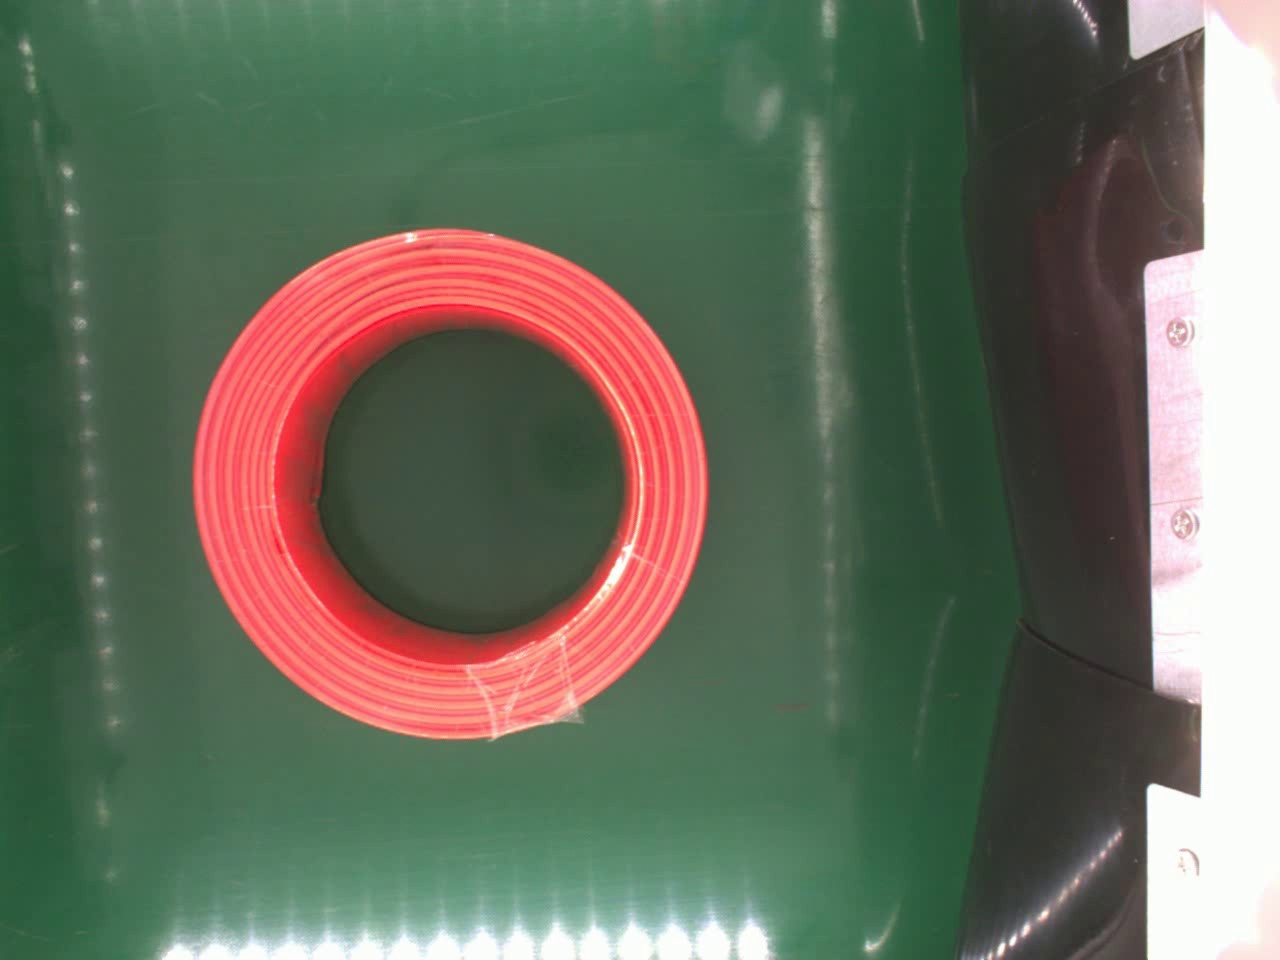red: (186, 226, 703, 746)
